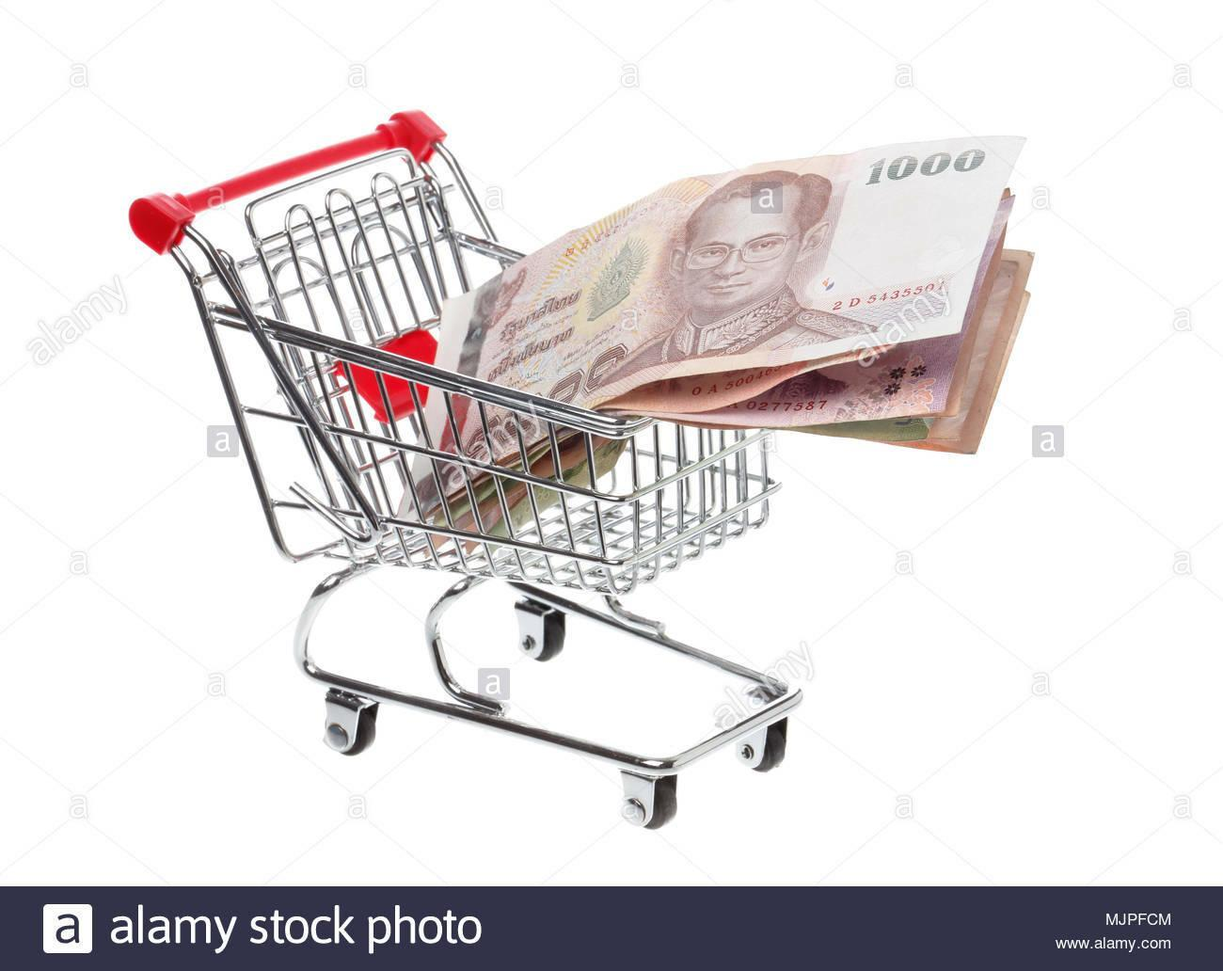1000BahtTai: (432, 126, 1021, 386)
